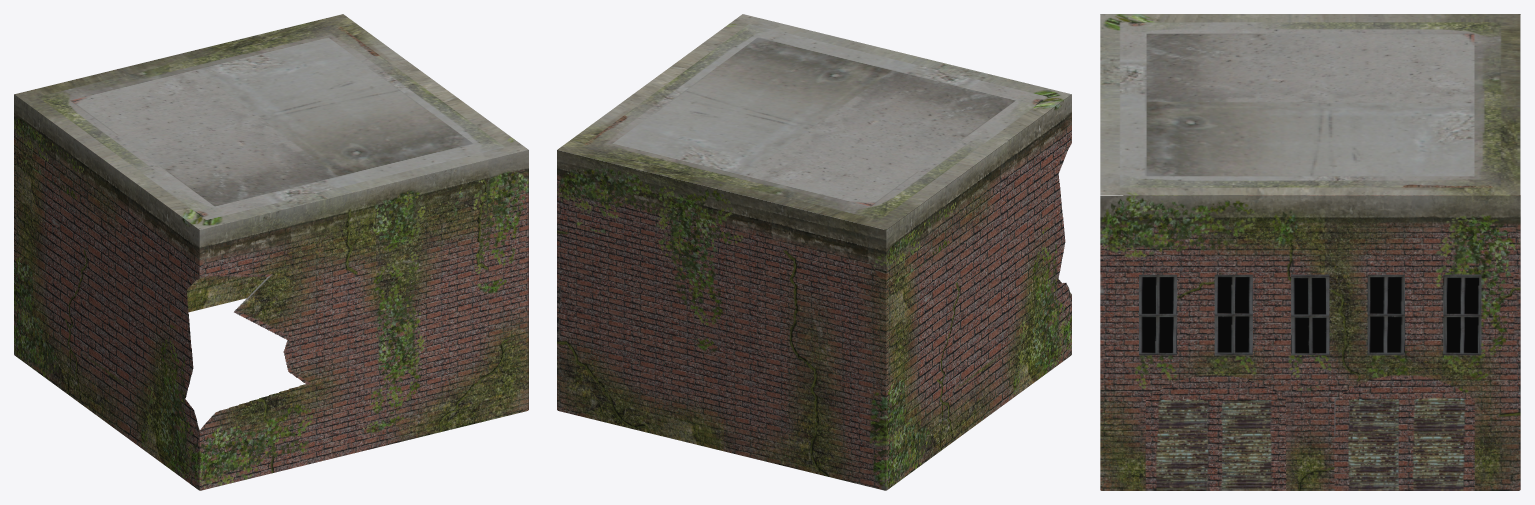
Rendered from ScraperBottom_LOD.fbx.
The picture shows the model from 3 angles, left to right: view 1: azimuth 30°, elevation 25°; view 2: azimuth 150°, elevation 25°; view 3: azimuth 270°, elevation 25°; orthographic projection. The views are drawn at different scales.
Parts seen in each view (by area): view 1: Cube; view 2: Cube; view 3: Cube.
Part boxes in pixels (x1=…): Cube: x1=14, y1=14, x2=528, y2=490; Cube: x1=557, y1=14, x2=1071, y2=490; Cube: x1=1100, y1=14, x2=1520, y2=490.
Size of the model in its own units: 1401 by 1061 by 1369.
Materials: 1 (1 with a texture image).
